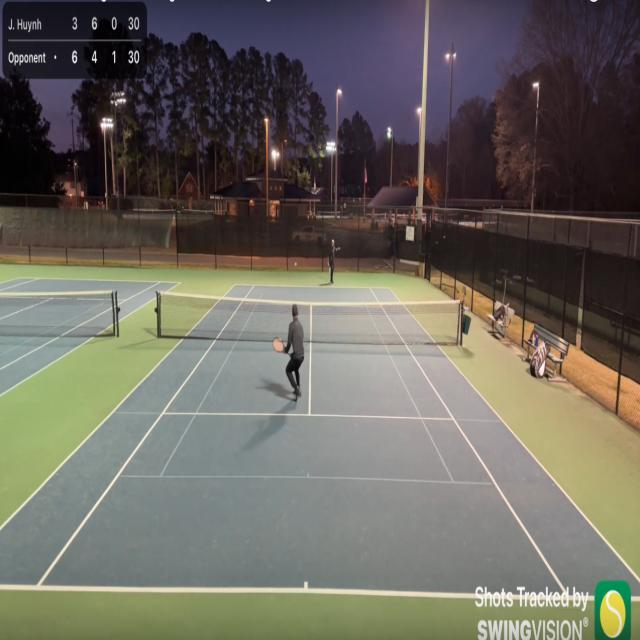ball: (294, 262, 297, 267)
